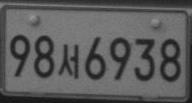3: (133, 38, 155, 81)
6: (84, 36, 106, 80)
8: (33, 34, 55, 78), (159, 38, 181, 82)
9: (108, 36, 131, 80), (8, 33, 30, 77)
서: (57, 44, 79, 79)
